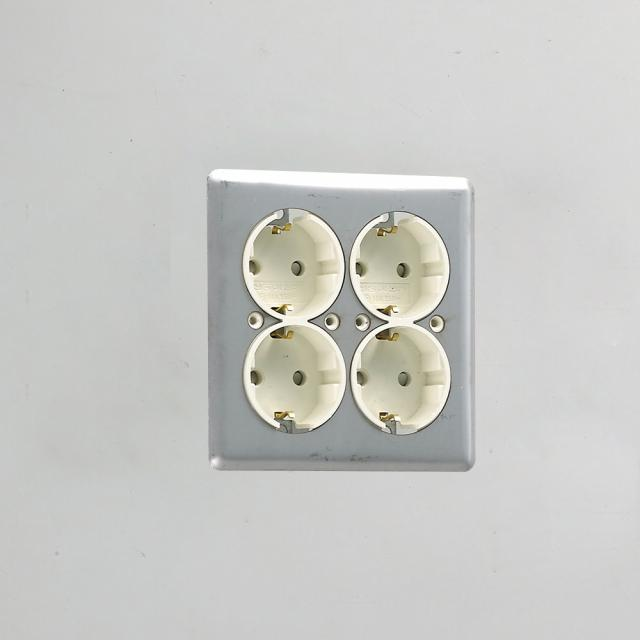typeb: (211, 178, 474, 467)
